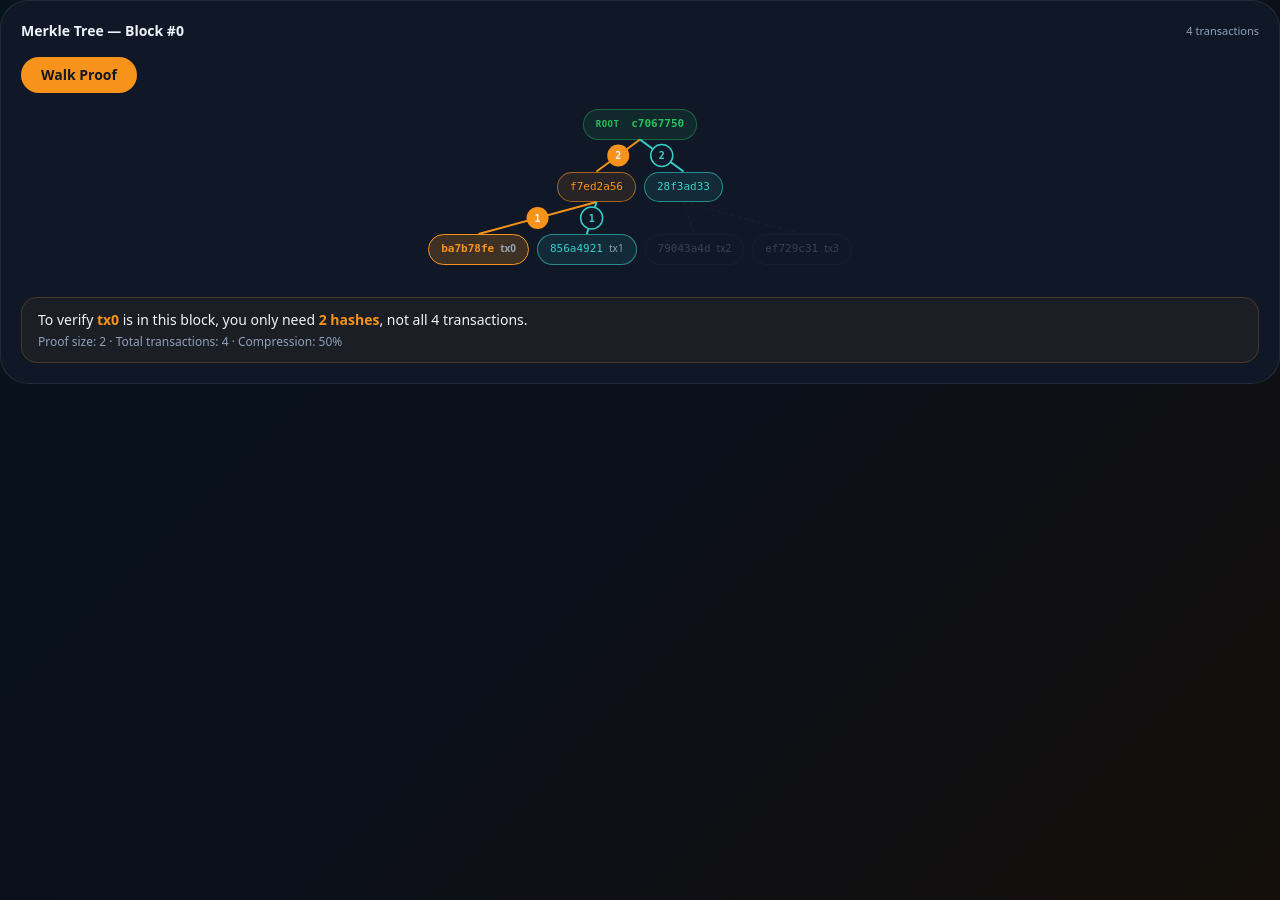
MerkleTreePanel › AC: step-through controls appear after clicking Walk Proof
The image size is (1280, 900).
Expected: the text "1 / 2" is not shown
Click Walk Proof
Click the button with aria-label "walk through proof steps".
click(79, 75)  # box [21,57,137,93]
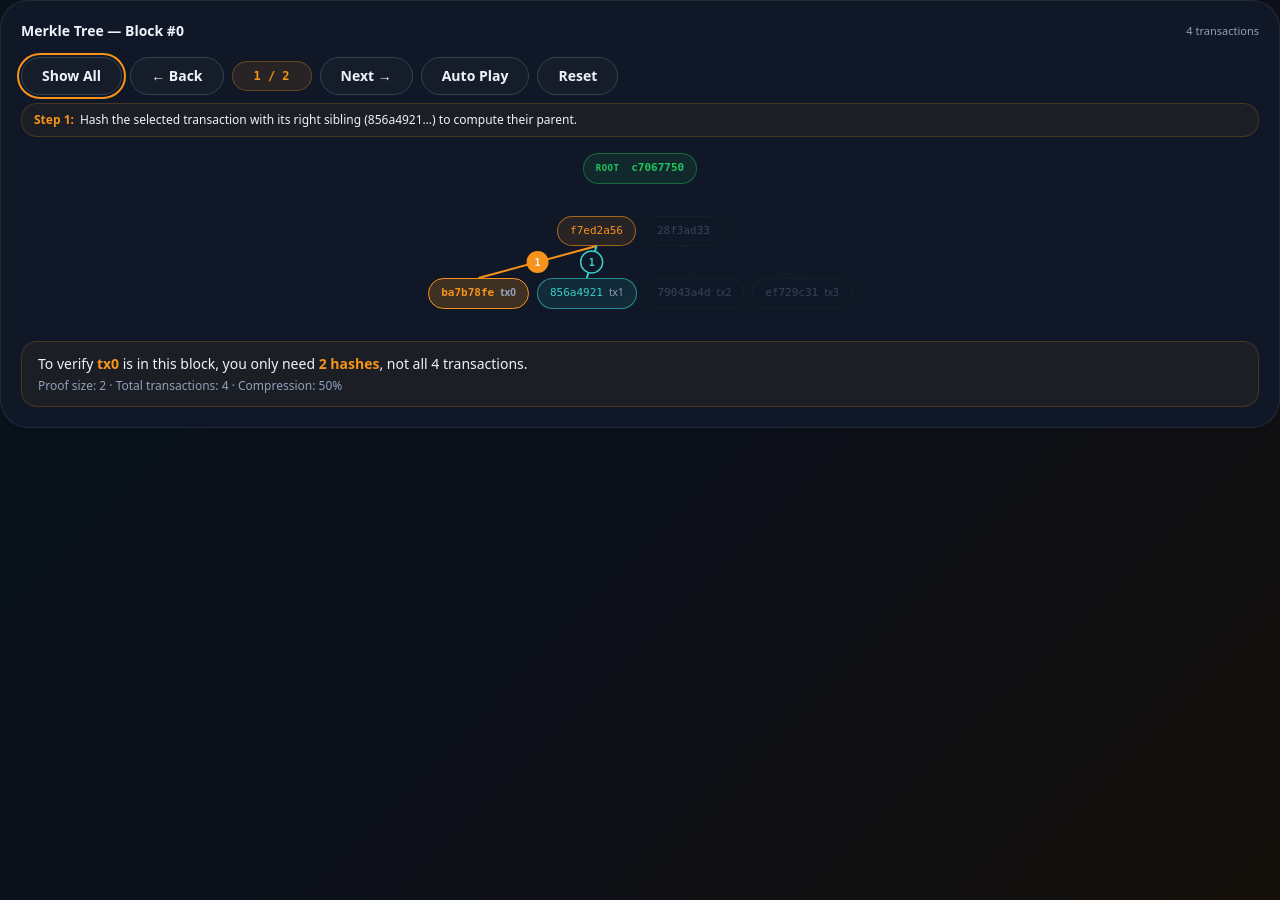
Expected: the text "1 / 2" is shown, [232,61,312,91]
Expected: the button with aria-label "next proof step" is shown, [320,57,413,95]
Expected: the button with aria-label "previous proof step" is shown, [130,57,224,95]
